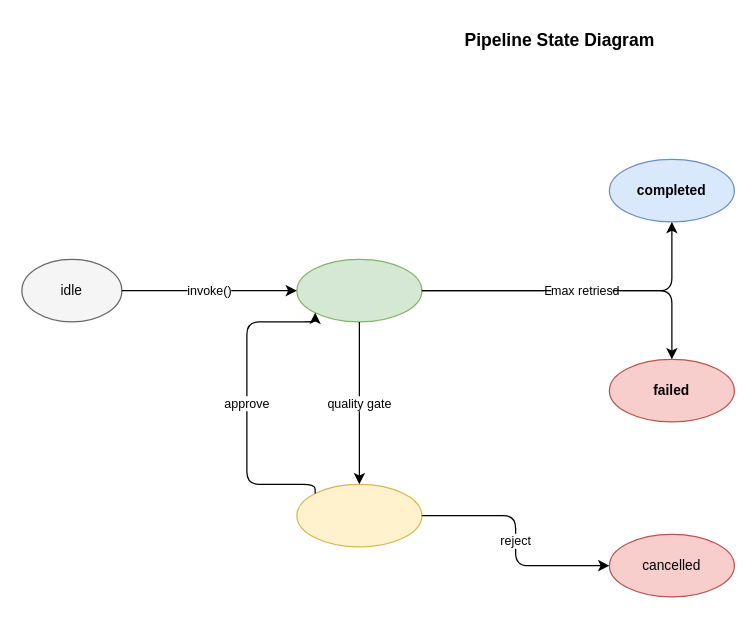
The diagram is 756 pixels wide and 619 high, and some of its shapes have lost their labels. The shapes that lost their labels are listed below. From the top down, each one's box as (x1, y1, x2, y2) in pixels, then its label:
(296, 258, 422, 322): running
(296, 483, 422, 547): paused
